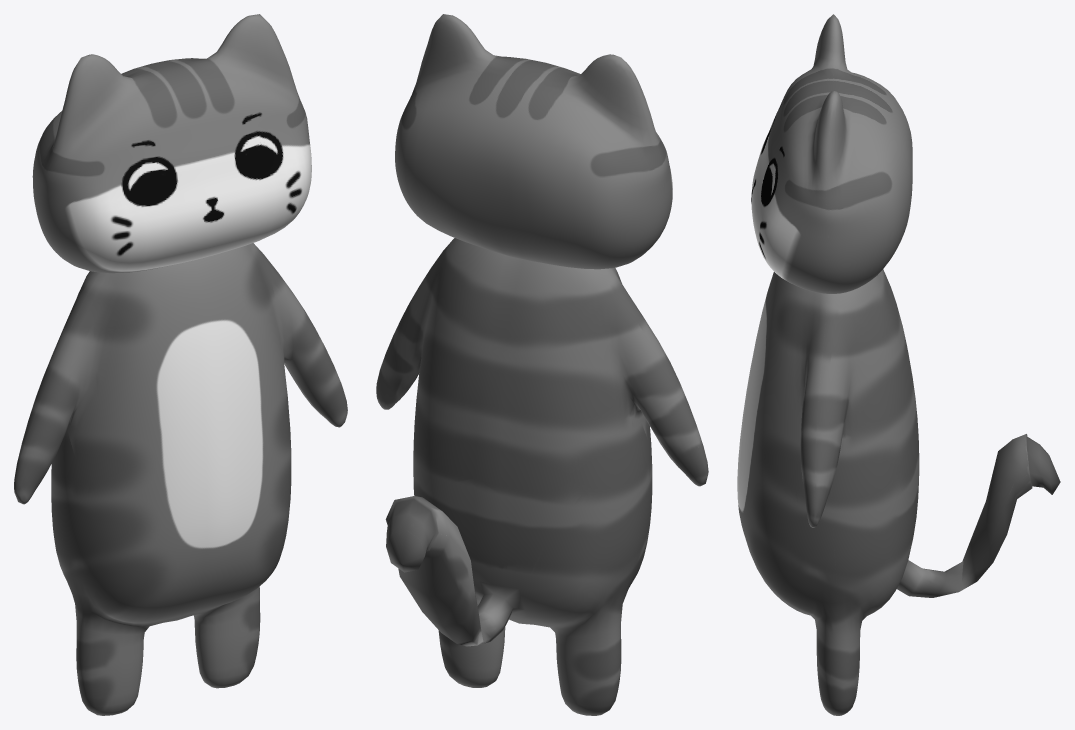
File: sunjae.glb
3 renders of one model, left to right at view 1: azimuth 30°, elevation 25°; view 2: azimuth 150°, elevation 25°; view 3: azimuth 270°, elevation 25°, orthographic. The views are drawn at different scales.
Parts seen in each view (by area): view 1: Roundcube.001, Roundcube; view 2: Roundcube.001, Roundcube; view 3: Roundcube.001, Roundcube.
Part boxes in pixels (left/top/right/bottom): Roundcube.001: left=14, top=243, right=347, bottom=715; Roundcube: left=32, top=14, right=311, bottom=273; Roundcube.001: left=376, top=238, right=708, bottom=715; Roundcube: left=395, top=14, right=672, bottom=269; Roundcube.001: left=737, top=269, right=1060, bottom=715; Roundcube: left=751, top=14, right=912, bottom=293.
Bounding box in the file's own units: 1.84 × 3.53 × 1.64.
Materials: 1 (1 with a texture image).
